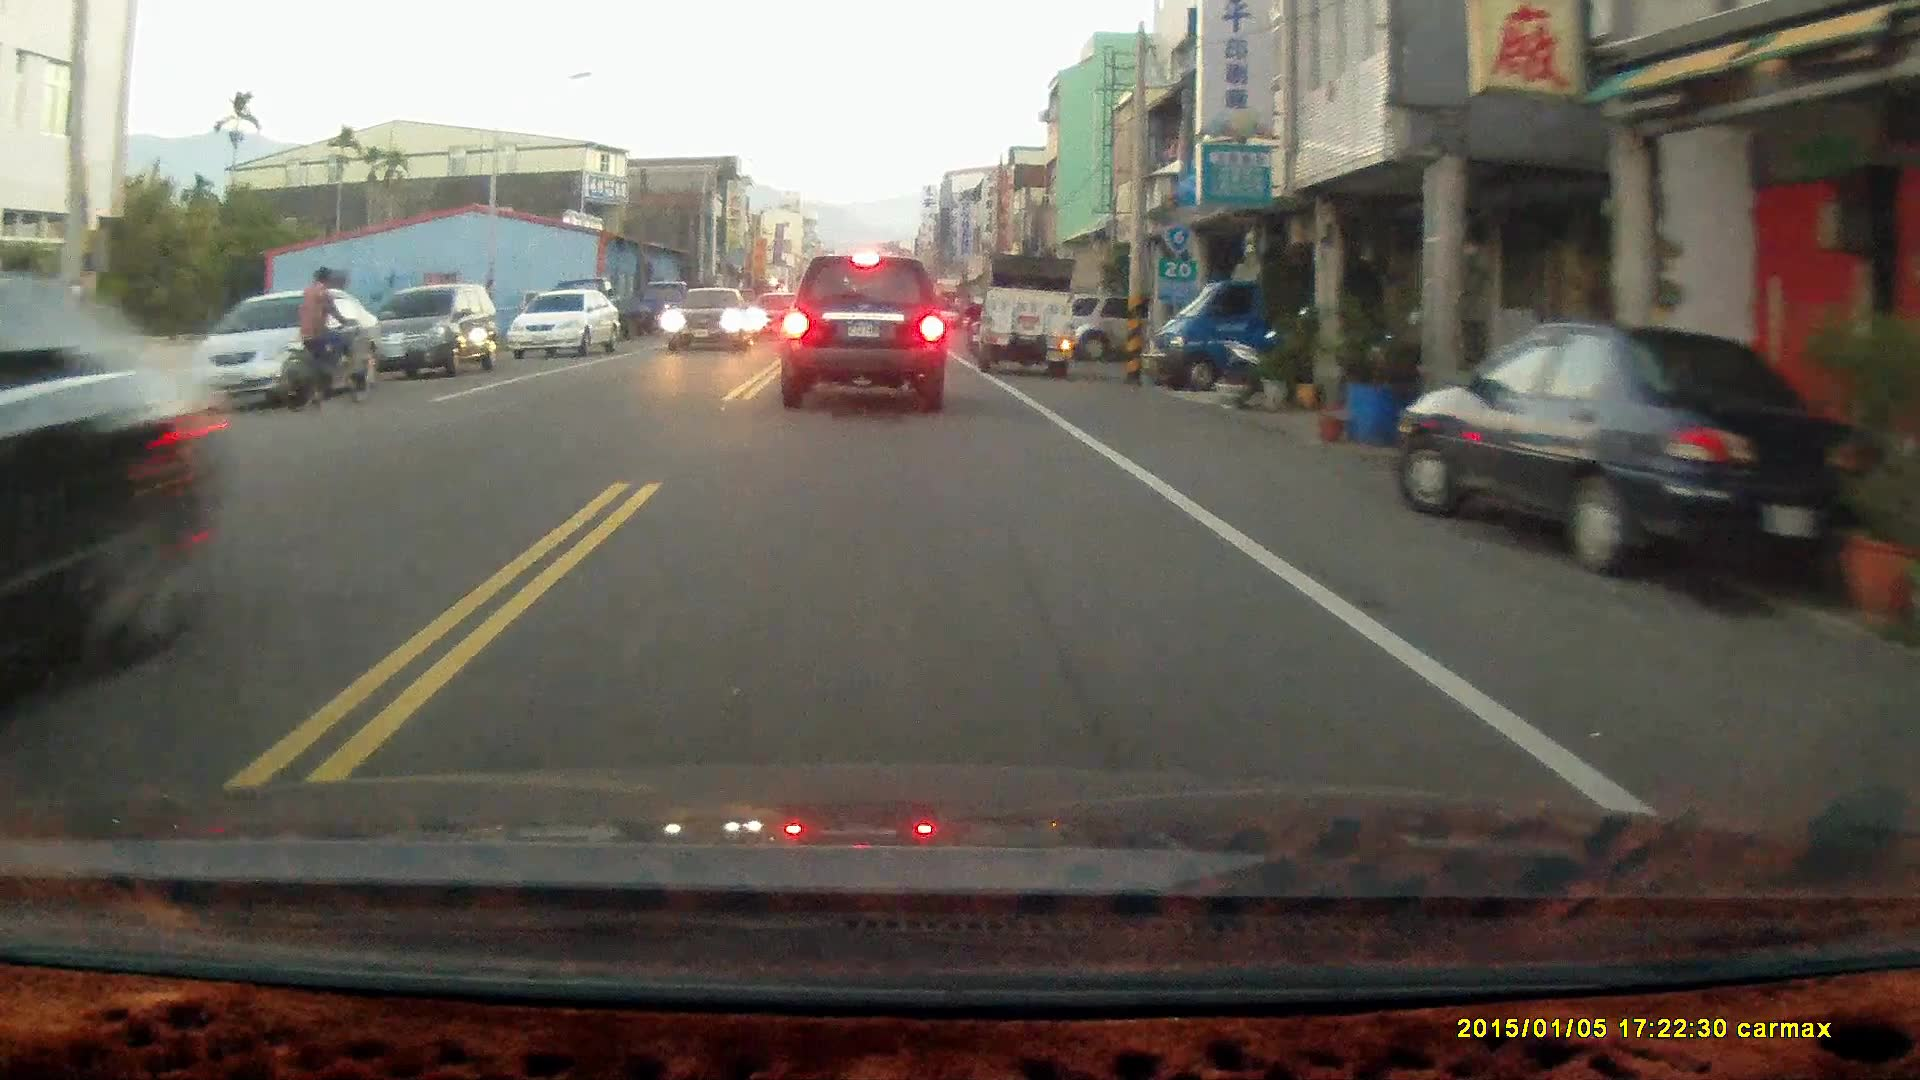rider: (274, 259, 379, 416), (961, 291, 989, 359)
vehicle: (1400, 321, 1857, 582), (1, 270, 229, 724), (781, 250, 949, 409), (187, 292, 389, 417), (1145, 251, 1310, 392), (360, 281, 506, 382), (977, 256, 1078, 377), (508, 288, 624, 361), (672, 287, 755, 351), (633, 279, 703, 341)
